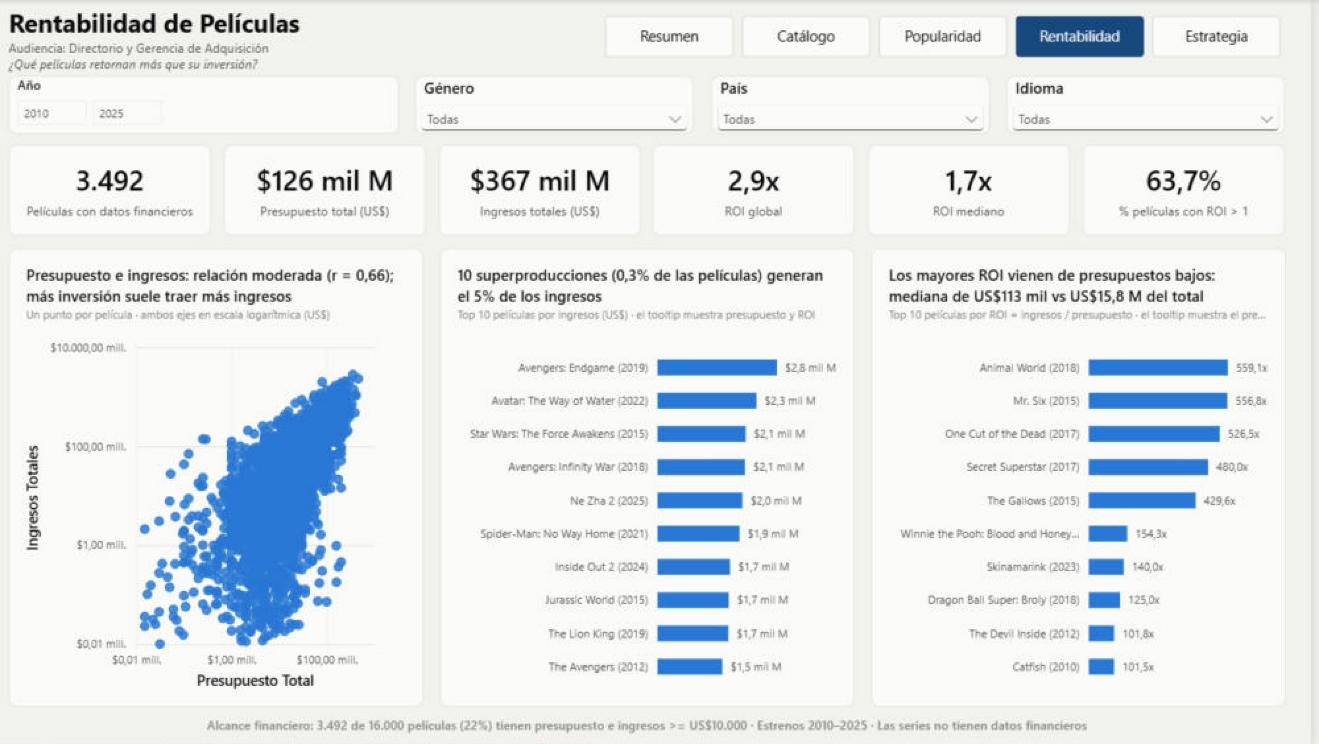

This screenshot's page, from the dashboard's own definition file:
{"tool":"powerbi","page":{"name":"Rentabilidad","canvas":[1280,720],"ordinal":3},"visuals":[{"type":"textbox","box":[24,6,560,64],"z":1000},{"type":"pageNavigator","box":[600,16,656,40],"z":2000},{"type":"slicer","fields":{"Values":["Calendario.Año"]},"box":[24,74,376.7,56],"z":3000},{"type":"slicer","fields":{"Values":["Genero.Género"]},"box":[416.7,74,269.1,56],"z":4000},{"type":"slicer","fields":{"Values":["Pais.País"]},"box":[701.8,74,269.1,56],"z":5000},{"type":"slicer","fields":{"Values":["Contenido.Idioma"]},"box":[986.9,74,269.1,56],"z":6000},{"type":"card","fields":{"Values":["Medidas.Películas con Datos Financieros"]},"box":[24,140,195.3,88],"z":7000},{"type":"card","fields":{"Values":["Medidas.Presupuesto Total"]},"box":[231.3,140,195.3,88],"z":8000},{"type":"card","fields":{"Values":["Medidas.Ingresos Totales"]},"box":[438.7,140,195.3,88],"z":9000},{"type":"card","fields":{"Values":["Medidas.ROI"]},"box":[646,140,195.3,88],"z":10000},{"type":"card","fields":{"Values":["Medidas.ROI Mediano"]},"box":[853.3,140,195.3,88],"z":11000},{"type":"card","fields":{"Values":["Medidas.% Películas Rentables"]},"box":[1060.7,140,195.3,88],"z":12000},{"type":"scatterChart","fields":{"Category":["Contenido.Título (Año)"],"X":["Medidas.Presupuesto Total"],"Y":["Medidas.Ingresos Totales"]},"box":[24,240,400,442],"z":13000},{"type":"clusteredBarChart","fields":{"Category":["Contenido.Título (Año)"],"Y":["Medidas.Ingresos Totales"]},"box":[440,240,400,442],"z":14000},{"type":"clusteredBarChart","fields":{"Category":["Contenido.Título (Año)"],"Y":["Medidas.ROI"]},"box":[856,240,400,442],"z":15000},{"type":"card","fields":{"Values":["Medidas.Texto Alcance Financiero"]},"box":[24,686,1232,32],"z":16000}]}

Visuals, with their boxes in screenshot pixels (x1, y1, x2, y2), scaled from the page's 1280x720 canvas onto the 1319x744 screenshot:
textbox: bbox=(25, 6, 602, 72)
pageNavigator: bbox=(618, 17, 1294, 58)
slicer - Calendario.Año: bbox=(25, 76, 413, 134)
slicer - Genero.Género: bbox=(429, 76, 707, 134)
slicer - Pais.País: bbox=(723, 76, 1000, 134)
slicer - Contenido.Idioma: bbox=(1017, 76, 1294, 134)
card - Medidas.Películas con Datos Financieros: bbox=(25, 145, 226, 236)
card - Medidas.Presupuesto Total: bbox=(238, 145, 440, 236)
card - Medidas.Ingresos Totales: bbox=(452, 145, 653, 236)
card - Medidas.ROI: bbox=(666, 145, 867, 236)
card - Medidas.ROI Mediano: bbox=(879, 145, 1081, 236)
card - Medidas.% Películas Rentables: bbox=(1093, 145, 1294, 236)
scatterChart - Contenido.Título (Año) x Medidas.Presupuesto Total: bbox=(25, 248, 437, 705)
clusteredBarChart - Contenido.Título (Año) x Medidas.Ingresos Totales: bbox=(453, 248, 866, 705)
clusteredBarChart - Contenido.Título (Año) x Medidas.ROI: bbox=(882, 248, 1294, 705)
card - Medidas.Texto Alcance Financiero: bbox=(25, 709, 1294, 742)
